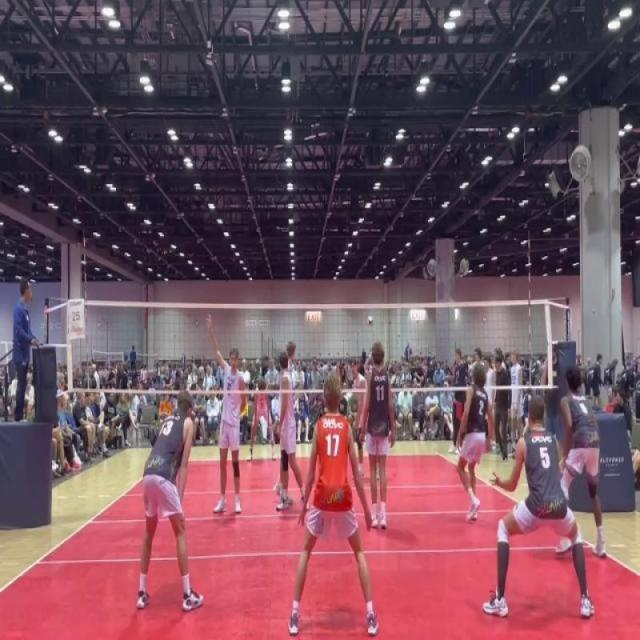volleyball: (366, 313, 374, 329)
